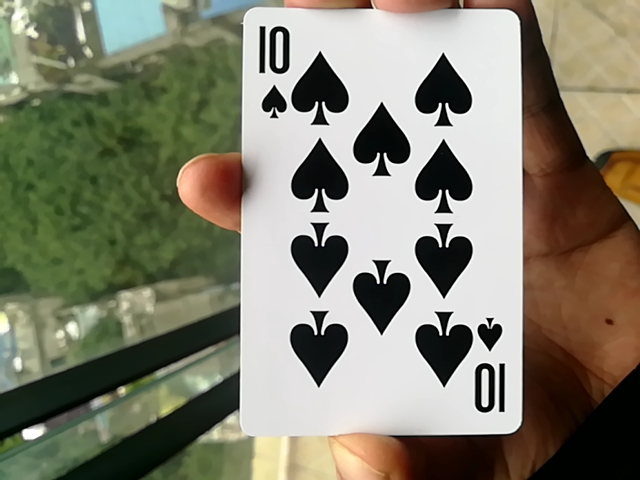ht 10: (234, 0, 518, 449)
